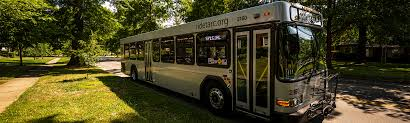bus: (120, 1, 334, 123)
